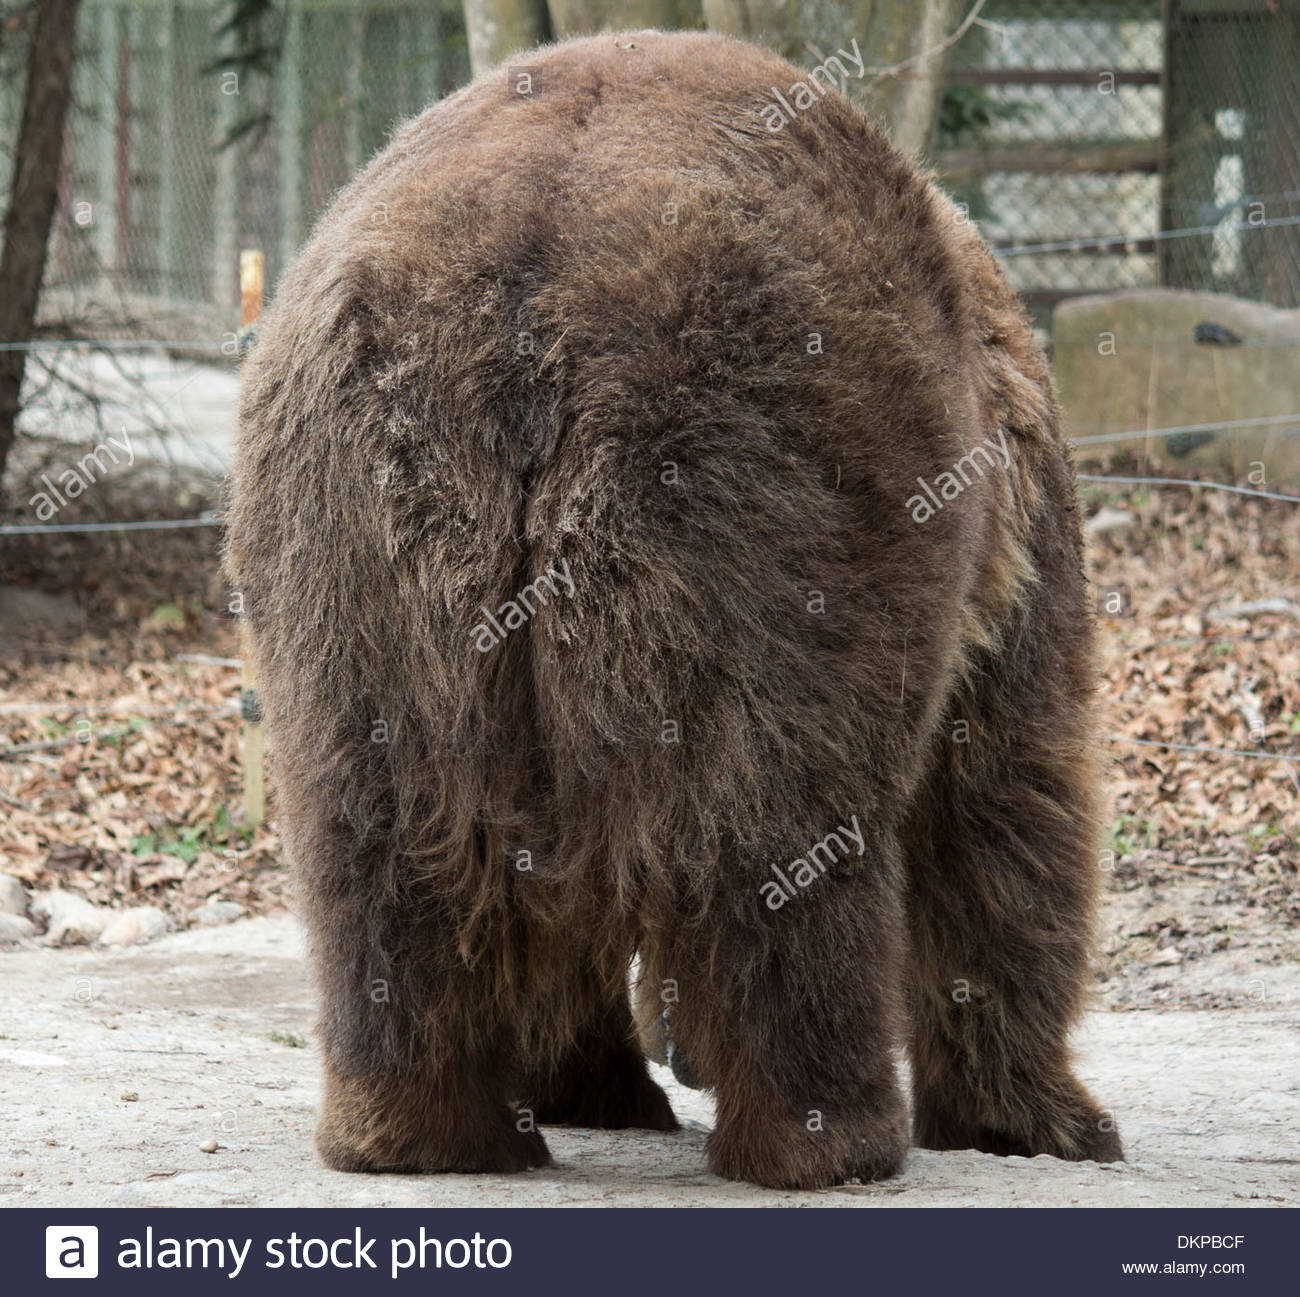bear: (233, 46, 1144, 1191)
